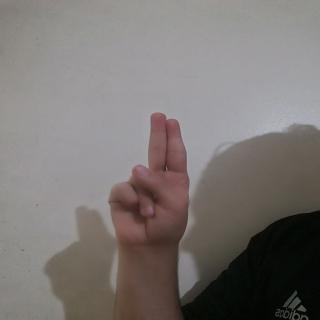TA: (100, 110, 222, 251)
